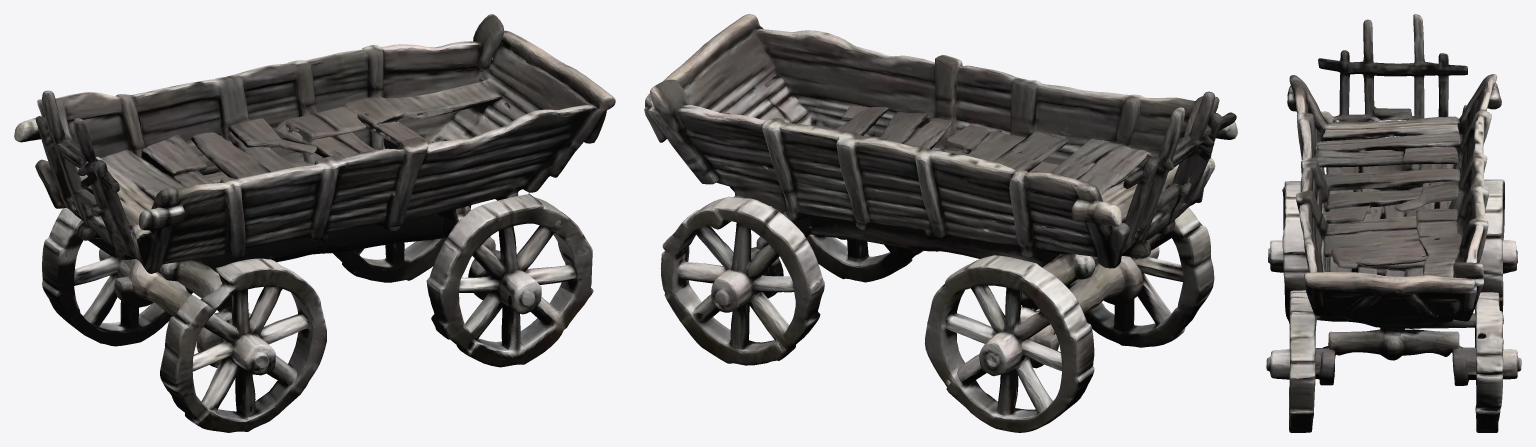
File: combat_burned_cart_01.glb
3 renders of one model, left to right at view 1: azimuth 30°, elevation 25°; view 2: azimuth 150°, elevation 25°; view 3: azimuth 270°, elevation 25°, orthographic. The views are drawn at different scales.
Visible parts, largest first — view 1: geometry_0; view 2: geometry_0; view 3: geometry_0.
Part boxes in pixels (<box>): geometry_0: <box>14,14,615,432</box>; geometry_0: <box>644,14,1237,432</box>; geometry_0: <box>1266,14,1521,432</box>.
Bounding box in the file's own units: 1 × 0.593 × 0.5332.
Materials: 1 (1 with a texture image).
